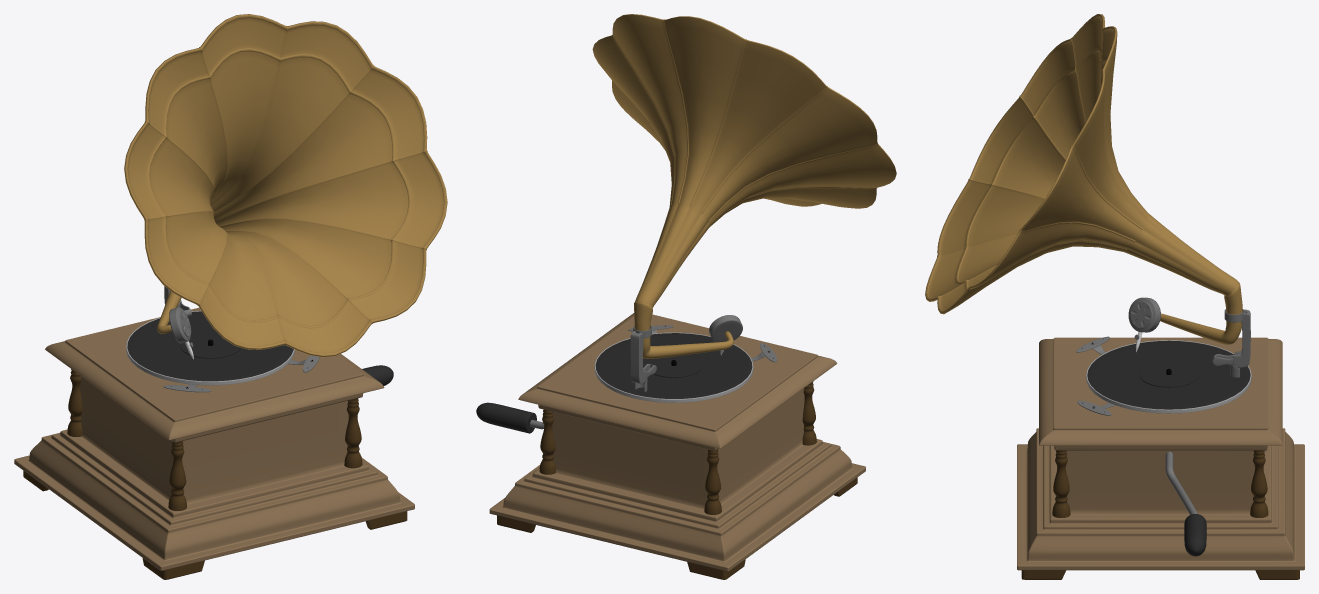
The model's file is Grammophone.fbx.
3 renders of one model, left to right at view 1: azimuth 30°, elevation 25°; view 2: azimuth 150°, elevation 25°; view 3: azimuth 270°, elevation 25°, orthographic. The views are drawn at different scales.
Visible parts, largest first — view 1: Grammophone; view 2: Grammophone; view 3: Grammophone.
Part boxes in pixels (x1,y1,x2,y2): Grammophone: [14, 14, 447, 579]; Grammophone: [476, 14, 896, 579]; Grammophone: [925, 14, 1304, 579].
Size of the model in its own units: 66.95 by 92.82 by 65.23.
